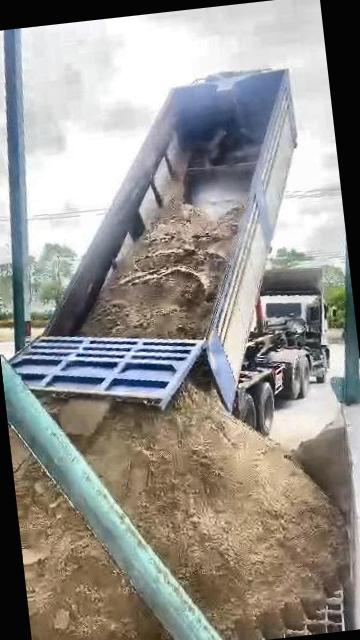sand: (47, 380, 345, 640), (12, 437, 169, 640), (82, 203, 240, 337), (293, 424, 351, 520)
